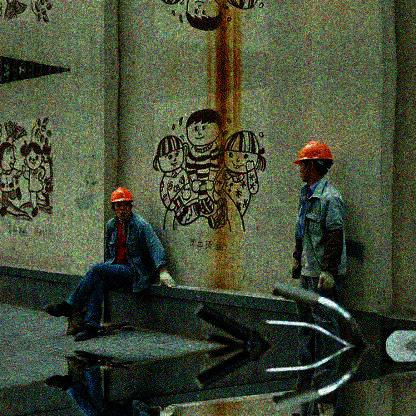helmet: (293, 141, 333, 182), (109, 186, 134, 221)
